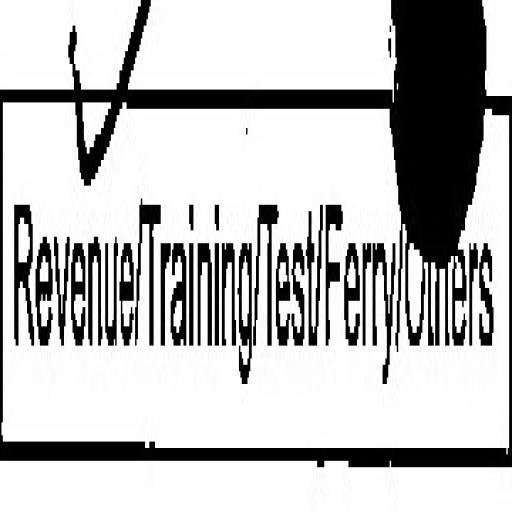check: (13, 0, 142, 512)
